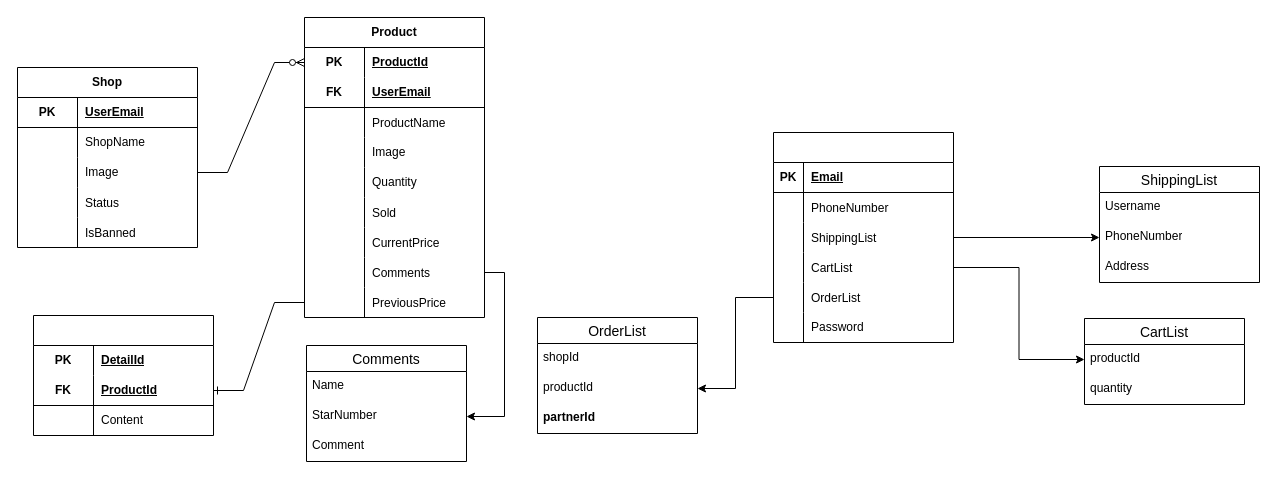
Some shapes in this 1277 by 482 pixel diagram are drawn without their labels. Each missing label, with the box of its shape:
ProductDetail: (32, 314, 214, 436)
User: (772, 132, 954, 342)
